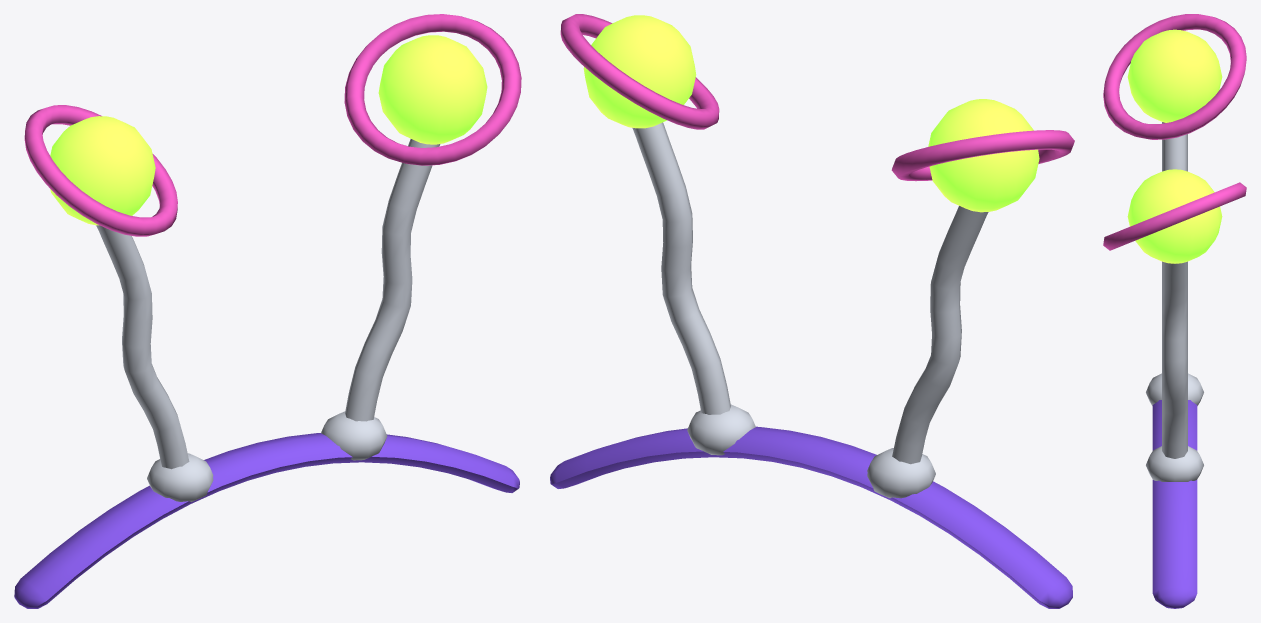
Rendered from antenna_alien.glb.
The picture shows the model from 3 angles, left to right: view 1: azimuth 30°, elevation 25°; view 2: azimuth 150°, elevation 25°; view 3: azimuth 270°, elevation 25°; orthographic projection. The views are drawn at different scales.
Parts seen in each view (by area): view 1: antenna_alien; view 2: antenna_alien; view 3: antenna_alien.
Boxes of the visible parts, box(x1,y1,x2,y2) form: antenna_alien: box(14, 14, 521, 608); antenna_alien: box(550, 14, 1074, 608); antenna_alien: box(1103, 14, 1246, 608).
Size of the model in its own units: 0.5764 by 0.5168 by 0.1669.
